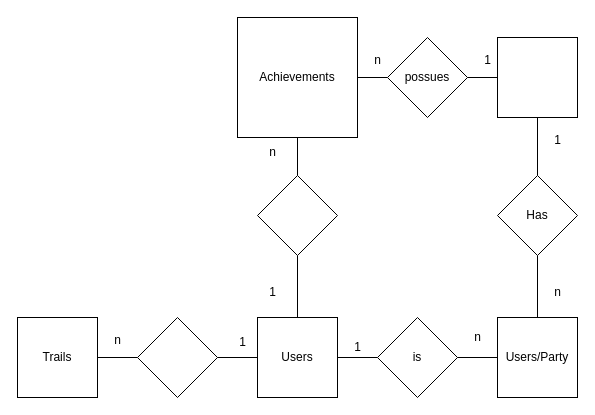
Some shapes in this 595 by 415 pixel diagram are drawn without their labels. The centre of each missing label's shape, as x and y in pixels:
"Do" goes at [177,357].
"own" goes at [297,215].
"Party" goes at [537,77].
